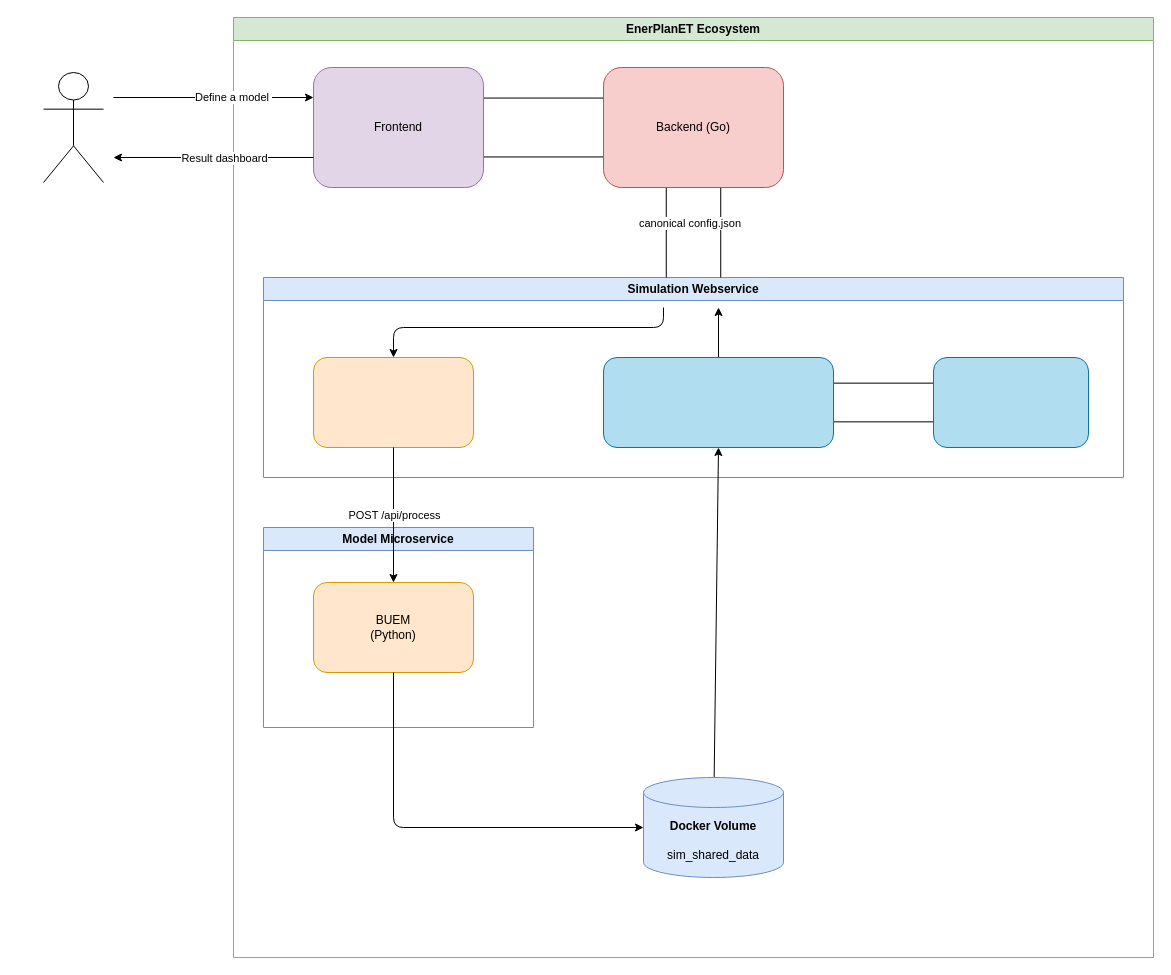
The diagram is 1171 pixels wide and 975 high, and some of its shapes have lost their labels. Here are the shapes that lost their labels. From the top down, the centre of each, then its label:
pixel 73 127: Researcher / Planner
pixel 393 402: BuEM Gateway
pixel 718 402: Calliope + pypsa Gateway
pixel 1010 402: calliope + pypsa model
